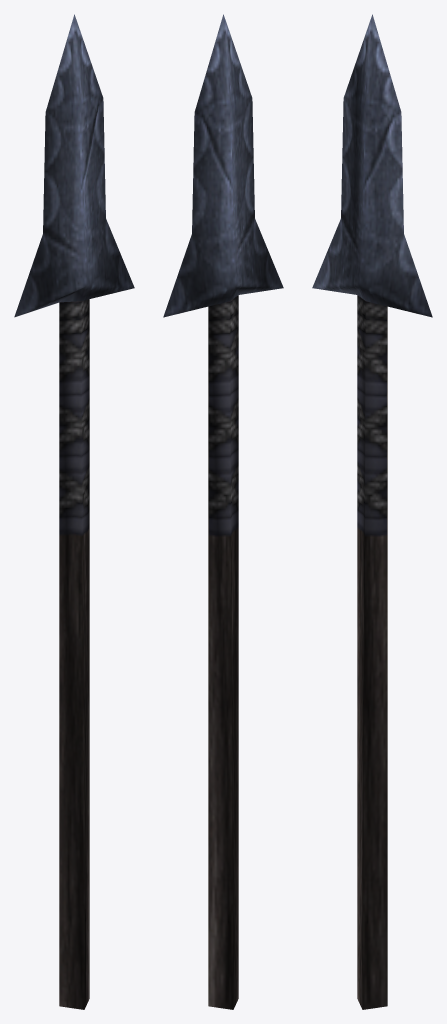
Rendered from GoblinSpear01.FBX.
3 views of the same model, side by side, from view 1: azimuth 30°, elevation 25°; view 2: azimuth 210°, elevation 25°; view 3: azimuth 330°, elevation 25° (orthographic).
Parts seen in each view (by area): view 1: arm02; view 2: arm02; view 3: arm02.
Part boxes in pixels (x1,y1,x2,y2): arm02: (14, 14, 134, 1009); arm02: (163, 14, 283, 1009); arm02: (312, 14, 432, 1009).
Bounding box in the file's own units: 18.36 × 144 × 6.38.
